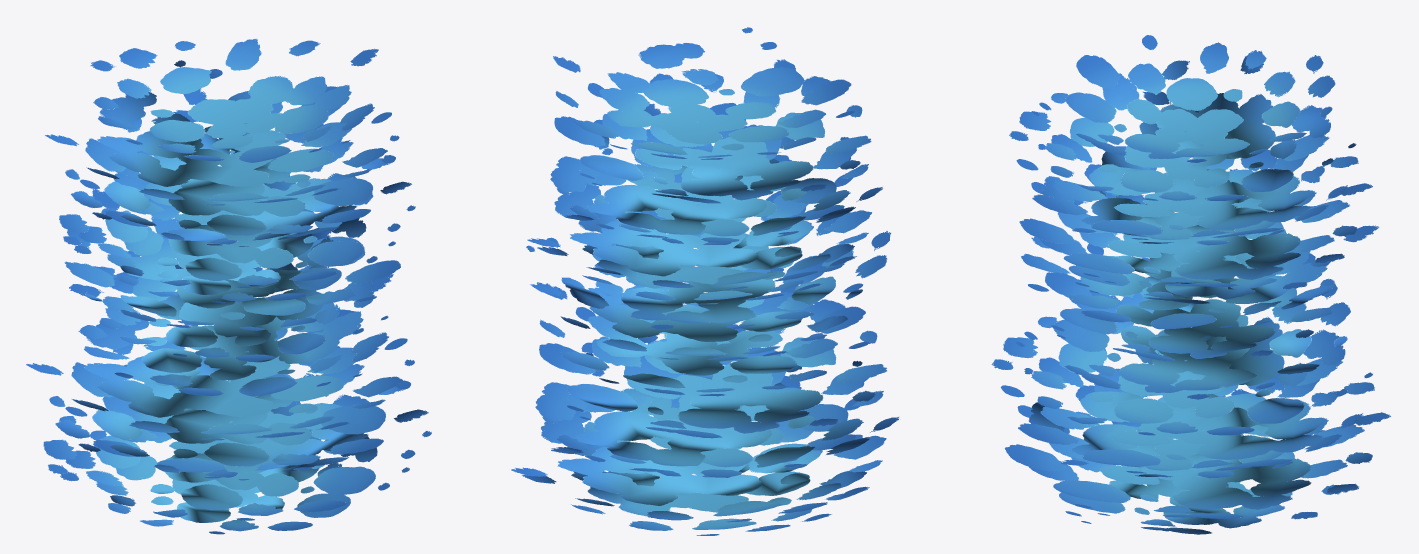
The model's file is flower_lilac.fbx.
3 renders of one model, left to right at view 1: azimuth 30°, elevation 25°; view 2: azimuth 150°, elevation 25°; view 3: azimuth 270°, elevation 25°, orthographic.
Visible parts, largest first — view 1: Plane.007; view 2: Plane.007; view 3: Plane.007.
Part boxes in pixels (x1=…): Plane.007: x1=26, y1=38, x2=431, y2=534; Plane.007: x1=511, y1=27, x2=898, y2=535; Plane.007: x1=991, y1=35, x2=1390, y2=534.
Size of the model in its own units: 5.79 by 5.86 by 5.79.
